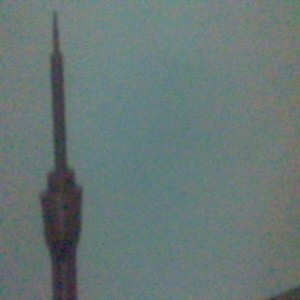solder: (40, 7, 84, 300)
